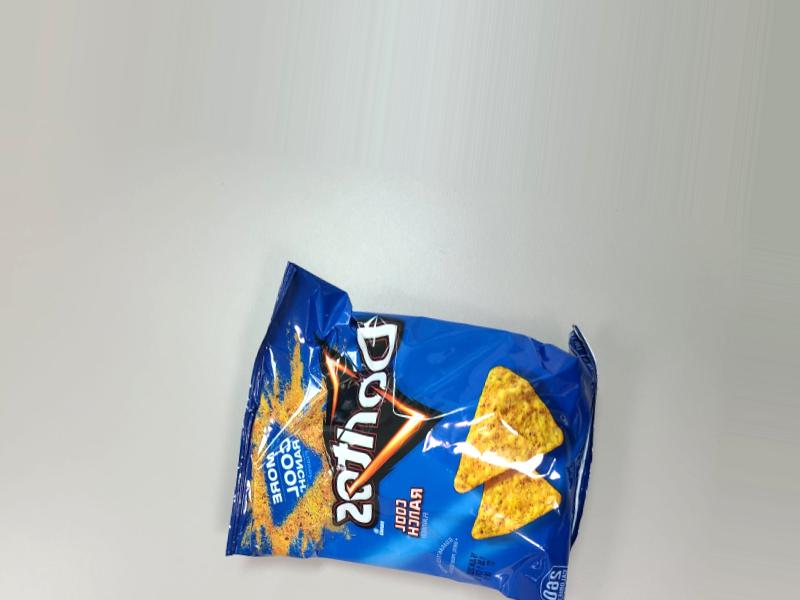doritos: (230, 290, 582, 582)
